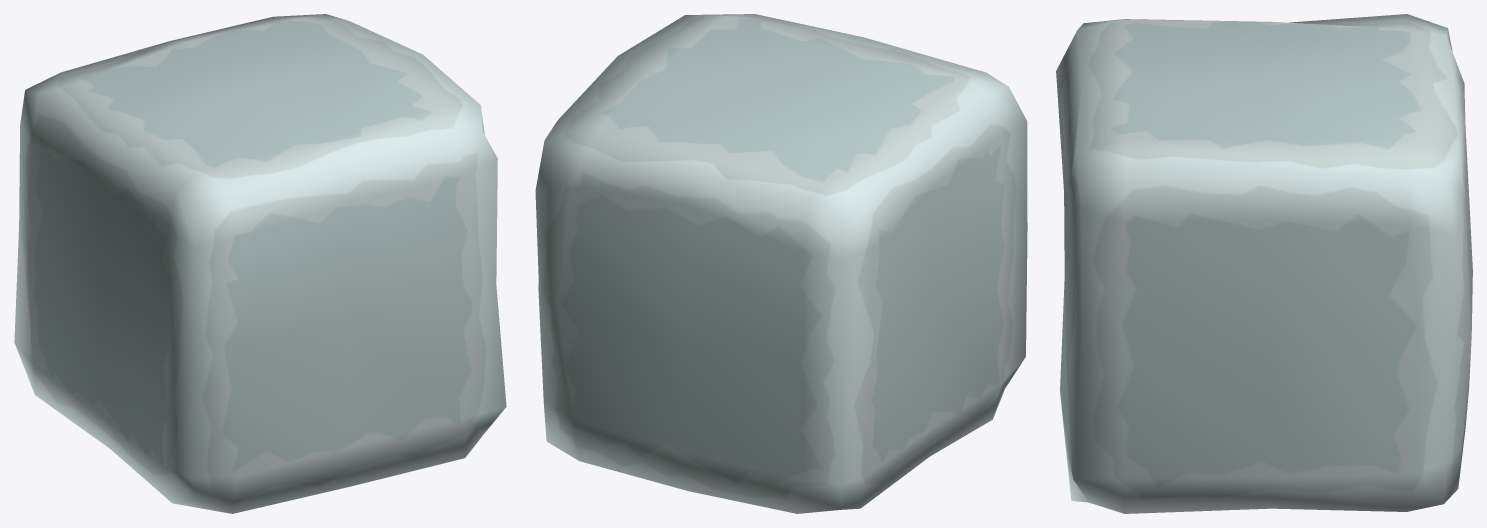
File: Obj_IceCube.fbx
3 views of the same model, side by side, from view 1: azimuth 30°, elevation 25°; view 2: azimuth 150°, elevation 25°; view 3: azimuth 270°, elevation 25° (orthographic). The views are drawn at different scales.
Visible parts, largest first — view 1: obj_icecube; view 2: obj_icecube; view 3: obj_icecube.
Part boxes in pixels (x1=…): obj_icecube: x1=14, y1=14, x2=506, y2=513; obj_icecube: x1=535, y1=14, x2=1027, y2=513; obj_icecube: x1=1056, y1=14, x2=1472, y2=513.
Bounding box in the file's own units: 209 × 206 × 212.
Materials: 1 (1 with a texture image).
